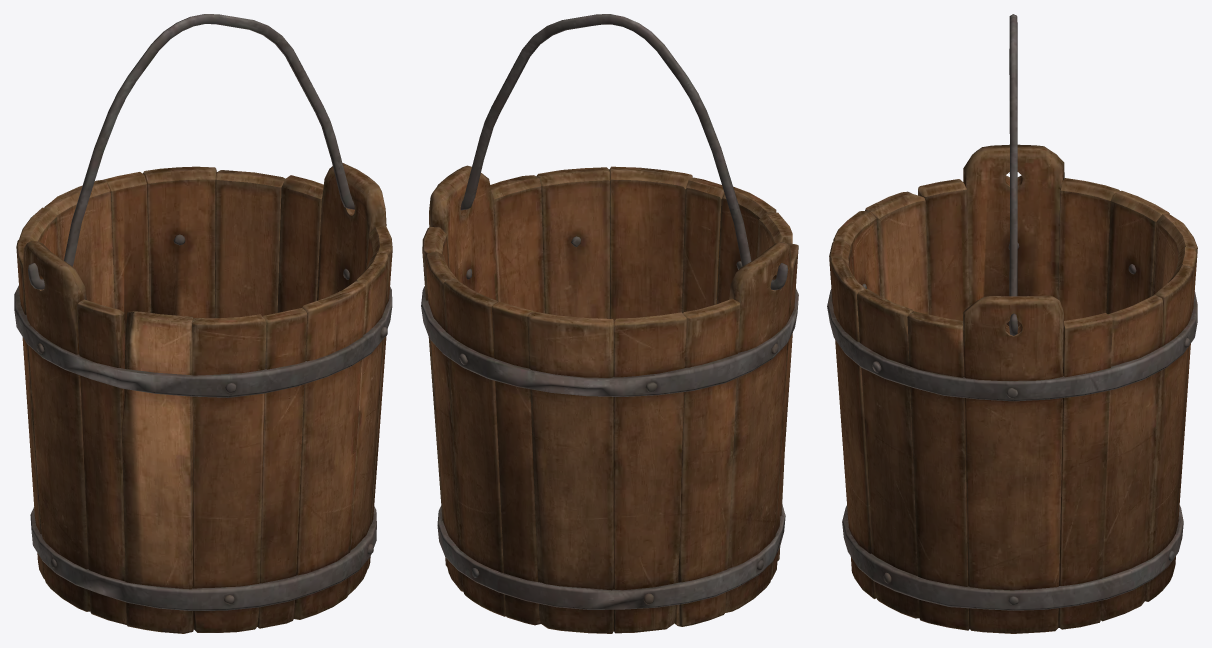
Rendered from wooden_bucket_01.glb.
3 renders of one model, left to right at view 1: azimuth 30°, elevation 25°; view 2: azimuth 150°, elevation 25°; view 3: azimuth 270°, elevation 25°, orthographic.
Parts seen in each view (by area): view 1: wooden_bucket_01; view 2: wooden_bucket_01; view 3: wooden_bucket_01.
Boxes of the visible parts, <box> form: wooden_bucket_01: <box>14,14,392,633</box>; wooden_bucket_01: <box>421,14,798,633</box>; wooden_bucket_01: <box>827,14,1197,633</box>.
Size of the model in its own units: 0.367 by 0.5499 by 0.3419.
1 material, 1 textured.
